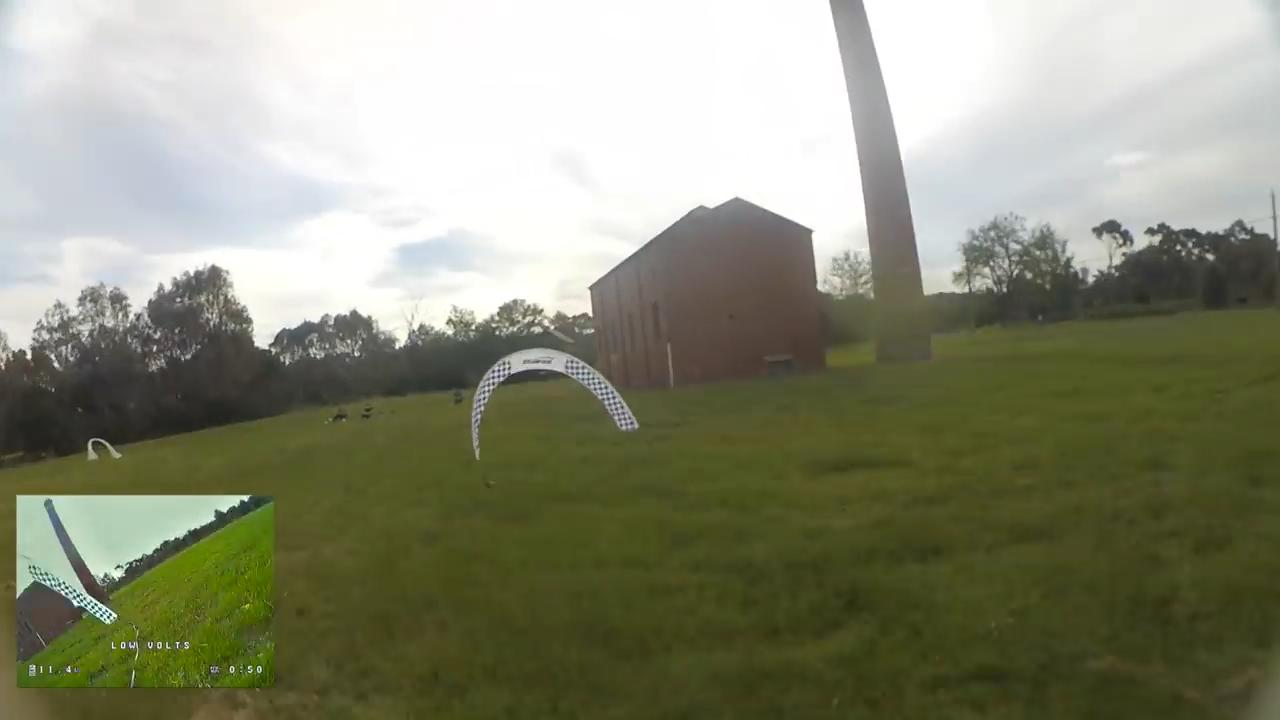gate: (462, 346, 640, 459)
